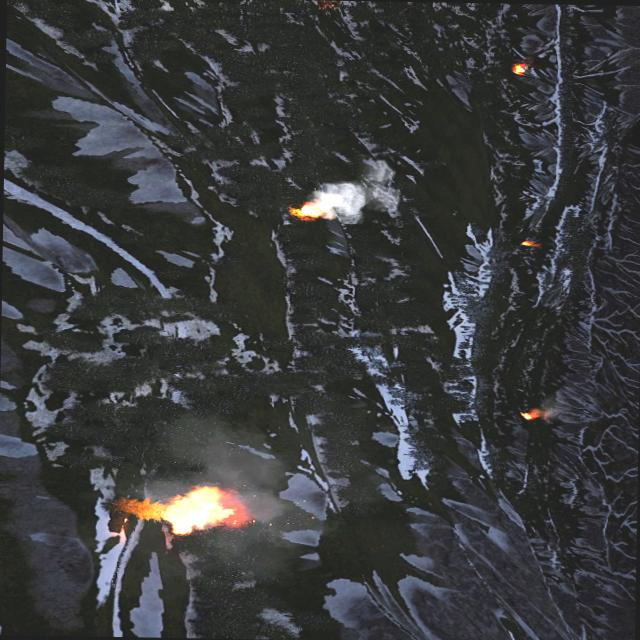fire: (162, 486, 238, 536), (290, 204, 320, 220), (520, 412, 537, 422), (520, 240, 538, 248), (512, 64, 525, 74)
smoke: (152, 418, 338, 588), (308, 159, 396, 227), (535, 396, 564, 421)
